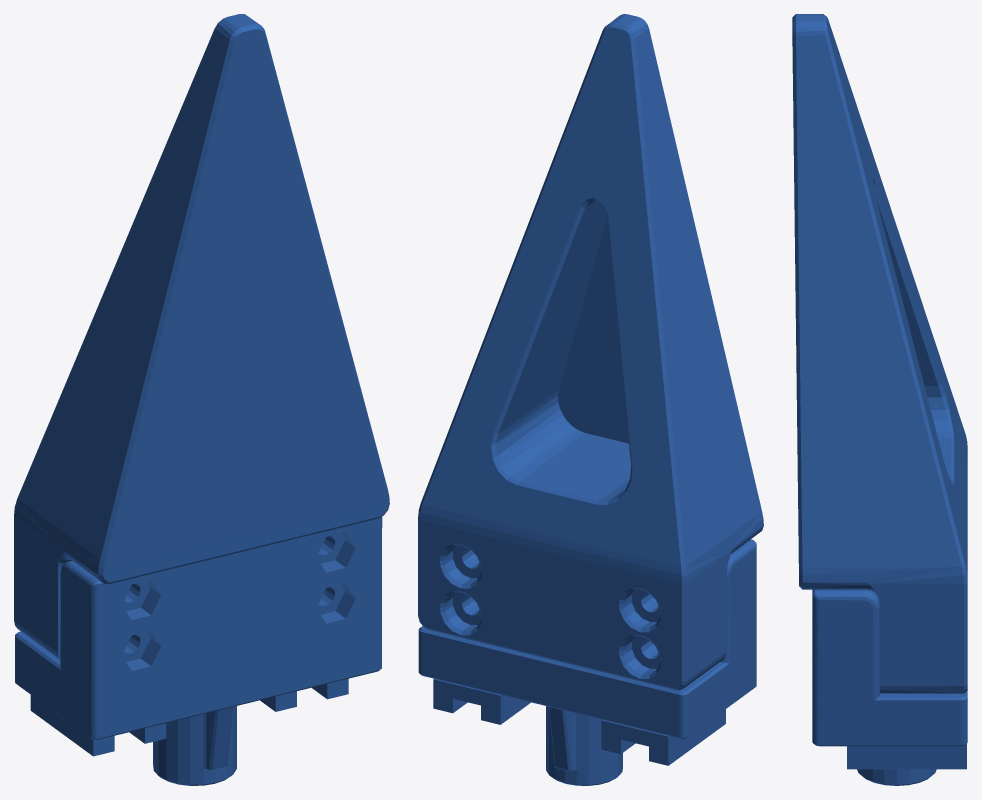
File: x_trainer_asm_0226_SLDASM_J2_7_visuals_J2_7_mesh.obj
3 views of the same model, side by side, from view 1: azimuth 30°, elevation 25°; view 2: azimuth 150°, elevation 25°; view 3: azimuth 270°, elevation 25° (orthographic). The views are drawn at different scales.
Bounding box in the file's own units: 0.048 × 0.1229 × 0.026.
